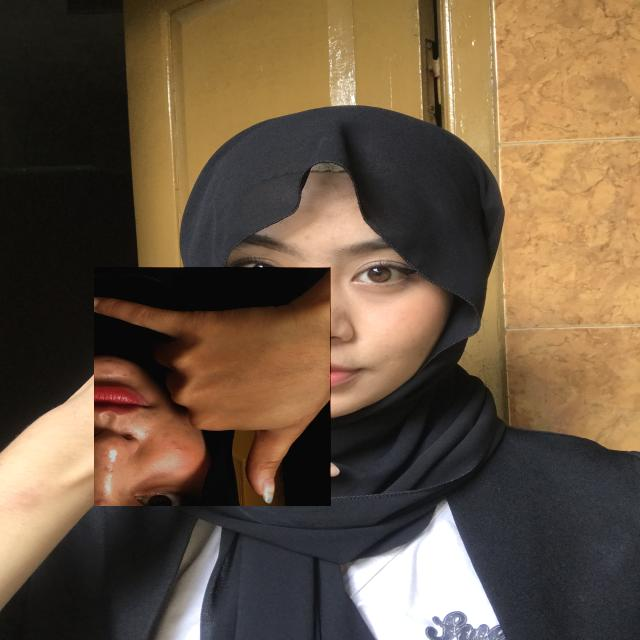telpon: (94, 267, 331, 506)
